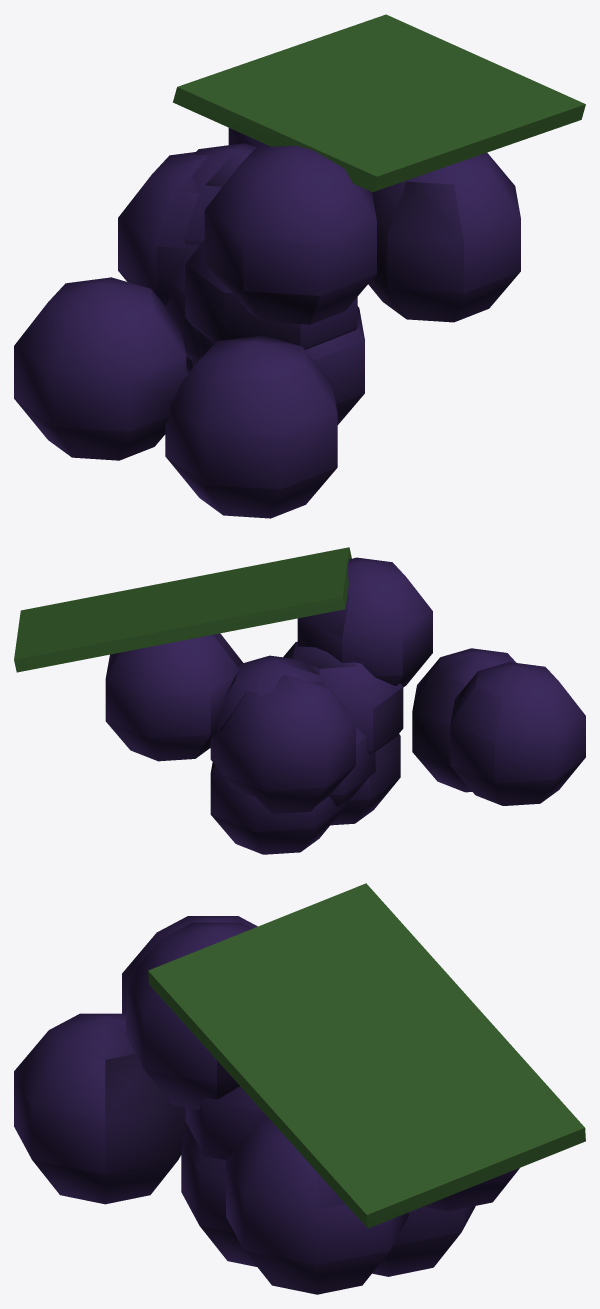
File: bayas.glb
3 renders of one model, top to bottom at view 1: azimuth 30°, elevation 25°; view 2: azimuth 150°, elevation 25°; view 3: azimuth 270°, elevation 25°, orthographic. The views are drawn at different scales.
Visible parts, largest first — view 1: bayas; view 2: bayas; view 3: bayas.
Boxes of the visible parts, x1,y1,x2,y2 form: bayas: (14, 14, 585, 518); bayas: (14, 547, 585, 854); bayas: (14, 883, 585, 1294).
Bounding box in the file's own units: 0.0846 × 0.043 × 0.0639.
